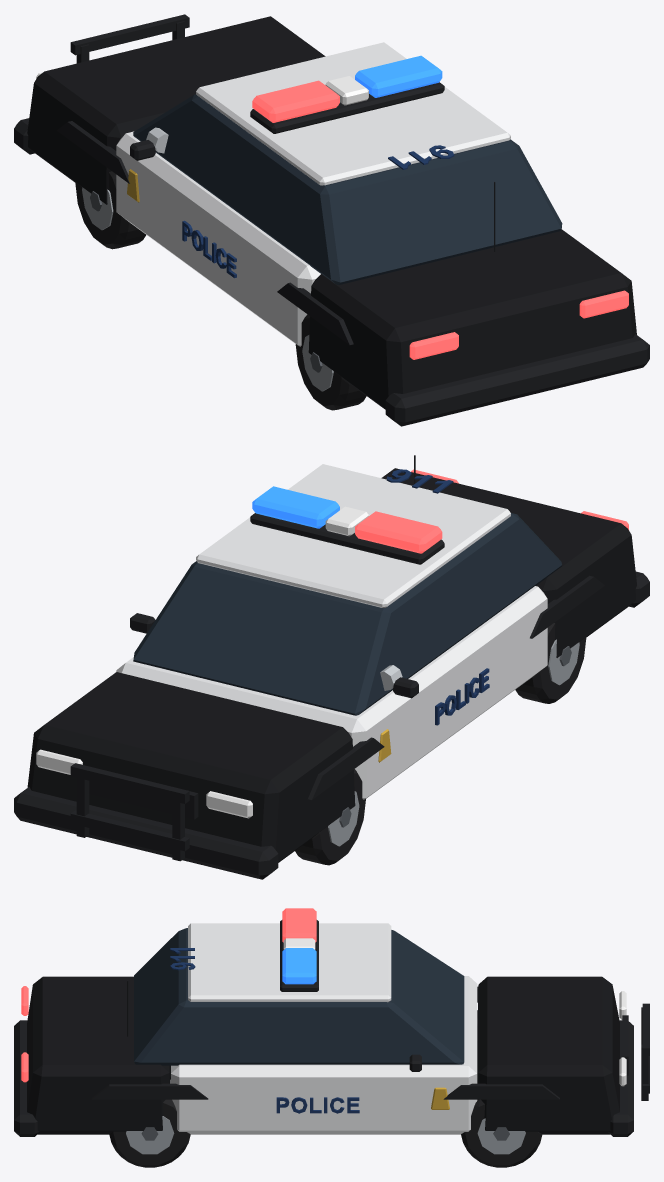
The model's file is PD_PatrolSedan.fbx.
3 renders of one model, top to bottom at view 1: azimuth 30°, elevation 25°; view 2: azimuth 150°, elevation 25°; view 3: azimuth 270°, elevation 25°, orthographic. The views are drawn at different scales.
Parts seen in each view (by area): view 1: PD_PatrolSedan_Body, PD_PatrolSedan_Wheel_FL, PD_PatrolSedan_Wheel_RL; view 2: PD_PatrolSedan_Body, PD_PatrolSedan_Wheel_RL, PD_PatrolSedan_Wheel_FL; view 3: PD_PatrolSedan_Body, PD_PatrolSedan_Wheel_RR, PD_PatrolSedan_Wheel_FR.
Boxes of the visible parts, x1,y1,x2,y2 form: PD_PatrolSedan_Body: (14, 14, 649, 426); PD_PatrolSedan_Wheel_FL: (75, 171, 145, 249); PD_PatrolSedan_Wheel_RL: (295, 314, 366, 410); PD_PatrolSedan_Body: (14, 455, 649, 879); PD_PatrolSedan_Wheel_RL: (515, 623, 586, 703); PD_PatrolSedan_Wheel_FL: (295, 769, 365, 865); PD_PatrolSedan_Body: (14, 908, 649, 1136); PD_PatrolSedan_Wheel_RR: (109, 1099, 190, 1167); PD_PatrolSedan_Wheel_FR: (461, 1099, 542, 1167).
Bounding box in the file's own units: 2.14 × 1.64 × 5.19.
